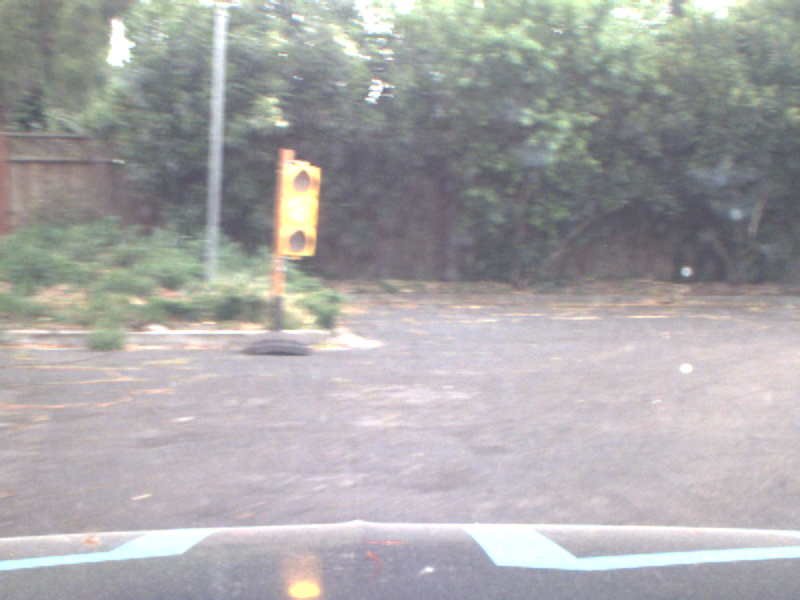Yellow: (281, 164, 315, 254)
